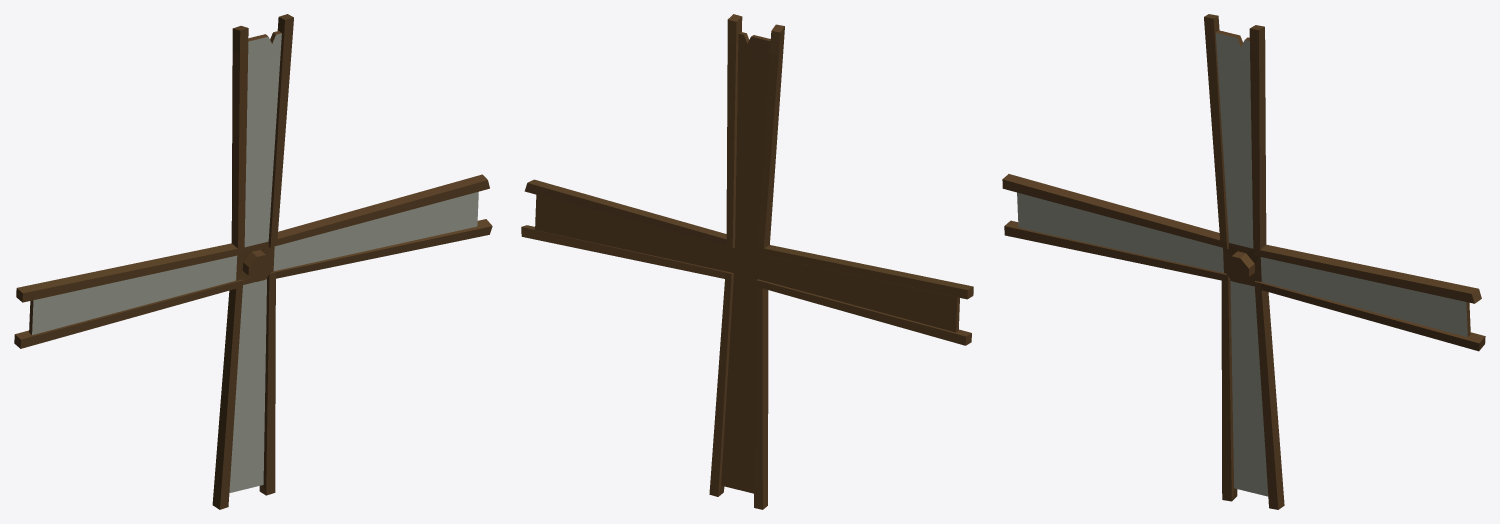
The model's file is 农风车2.fbx.
3 renders of one model, left to right at view 1: azimuth 30°, elevation 25°; view 2: azimuth 150°, elevation 25°; view 3: azimuth 330°, elevation 25°, orthographic. The views are drawn at different scales.
Visible parts, largest first — view 1: 柱体.026; view 2: 柱体.026; view 3: 柱体.026.
Part boxes in pixels (x1,y1,x2,y2): 柱体.026: [14, 14, 492, 509]; 柱体.026: [521, 14, 973, 509]; 柱体.026: [1002, 14, 1485, 509].
Bounding box in the file's own units: 219 × 219 × 21.
